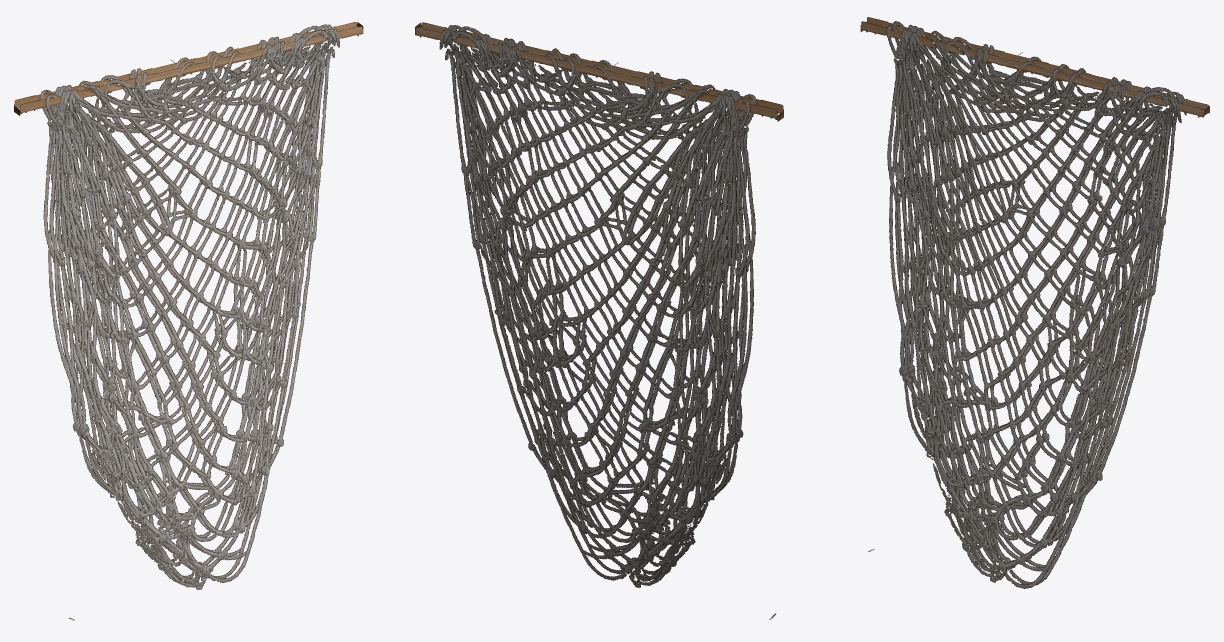
File: toad-prop-fish-net.glb
3 views of the same model, side by side, from view 1: azimuth 30°, elevation 25°; view 2: azimuth 150°, elevation 25°; view 3: azimuth 330°, elevation 25° (orthographic). The views are drawn at different scales.
Parts seen in each view (by area): view 1: net; view 2: net; view 3: net.
Part boxes in pixels (left/top/right/bottom): net: left=14, top=22, right=363, bottom=620; net: left=415, top=22, right=783, bottom=619; net: left=860, top=17, right=1209, bottom=588.
Bounding box in the file's own units: 0.134 × 0.1903 × 0.02.
Materials: 1 (1 with a texture image).
